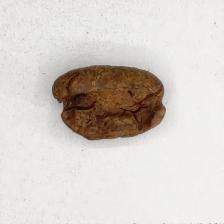NG: (54, 68, 165, 140)
